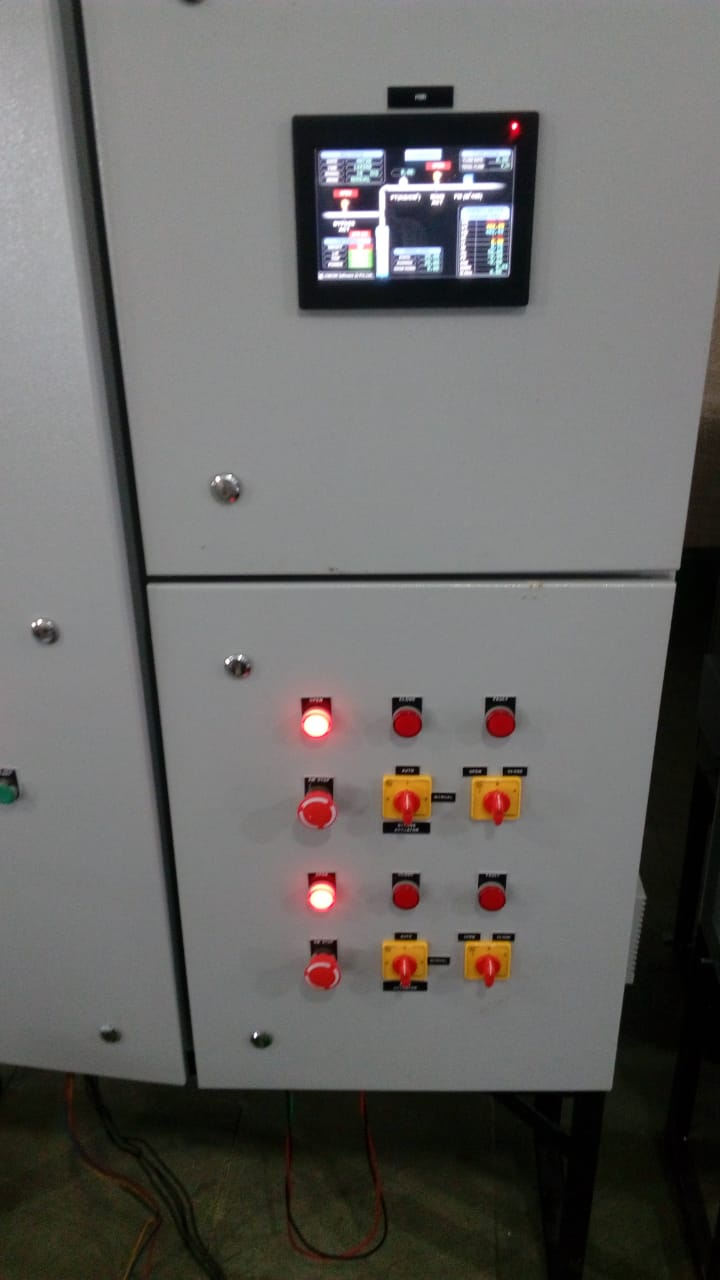Red_Led_Off: (470, 687, 543, 752), (378, 860, 436, 931), (465, 863, 533, 921), (378, 689, 442, 748)
Red_Led_On: (286, 692, 352, 753), (292, 864, 352, 930)
